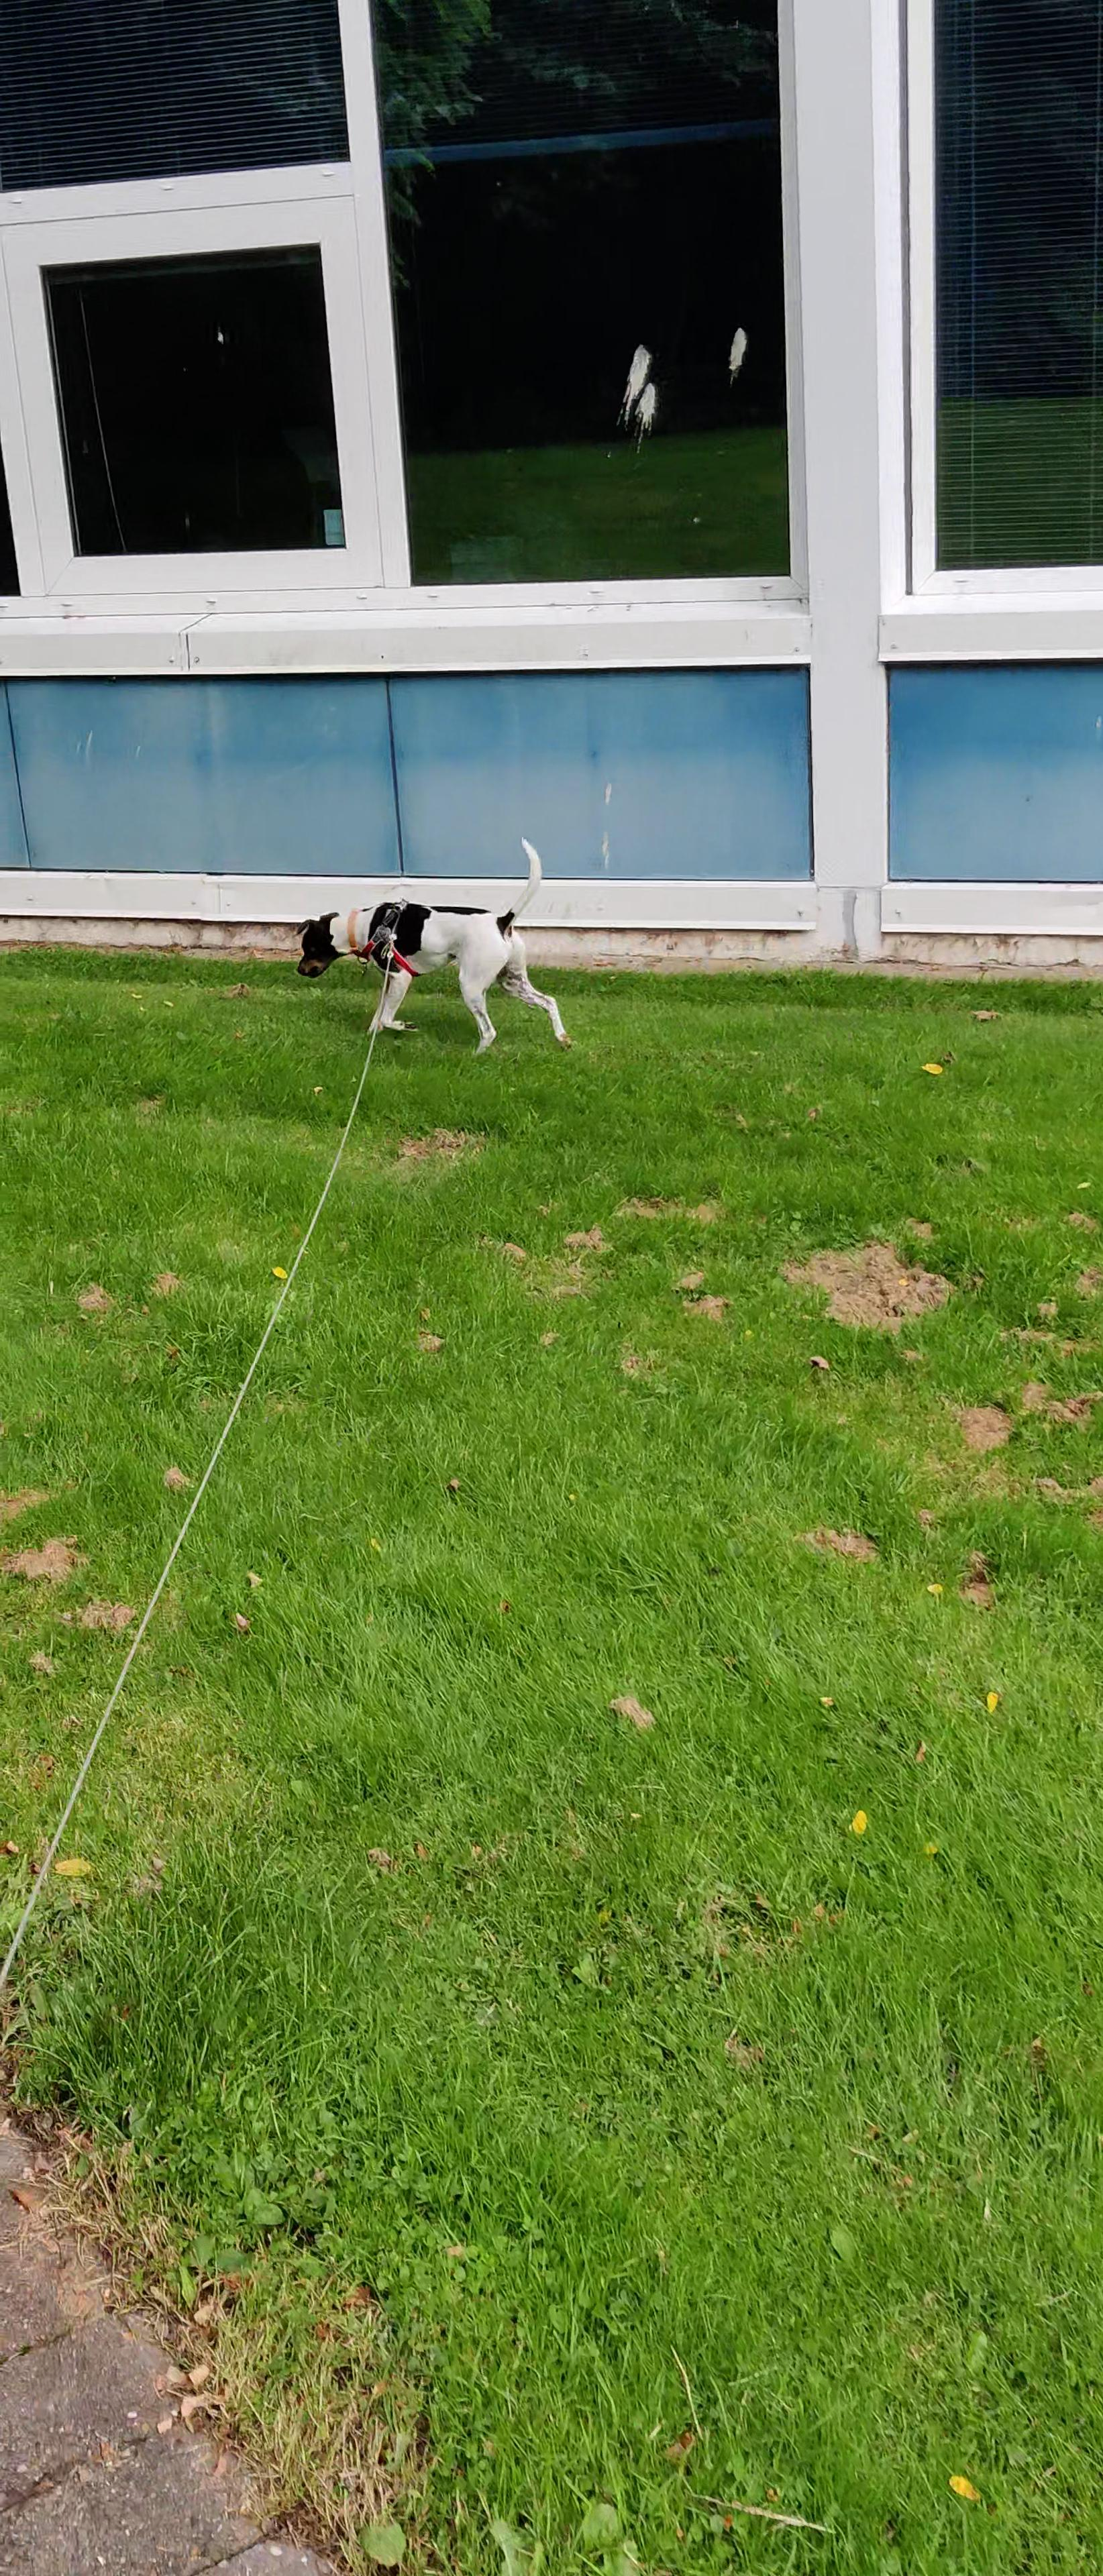Dog: (291, 833, 577, 1060)
